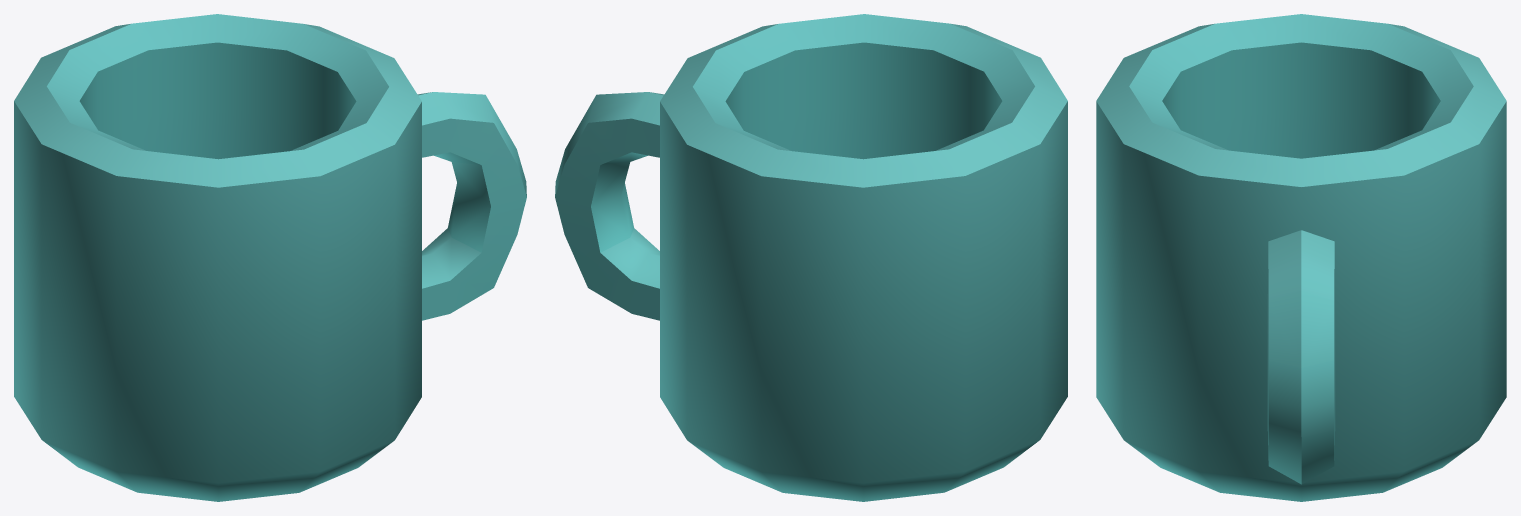
The model's file is Blue Mug.glb.
3 renders of one model, left to right at view 1: azimuth 30°, elevation 25°; view 2: azimuth 150°, elevation 25°; view 3: azimuth 270°, elevation 25°, orthographic.
Visible parts, largest first — view 1: mug_blue; view 2: mug_blue; view 3: mug_blue.
Part boxes in pixels (x1=…): mug_blue: x1=14, y1=14, x2=526, y2=501; mug_blue: x1=555, y1=14, x2=1067, y2=501; mug_blue: x1=1096, y1=14, x2=1506, y2=501.
Bounding box in the file's own units: 0.5119 × 0.35 × 0.375.
1 material, 1 textured.
